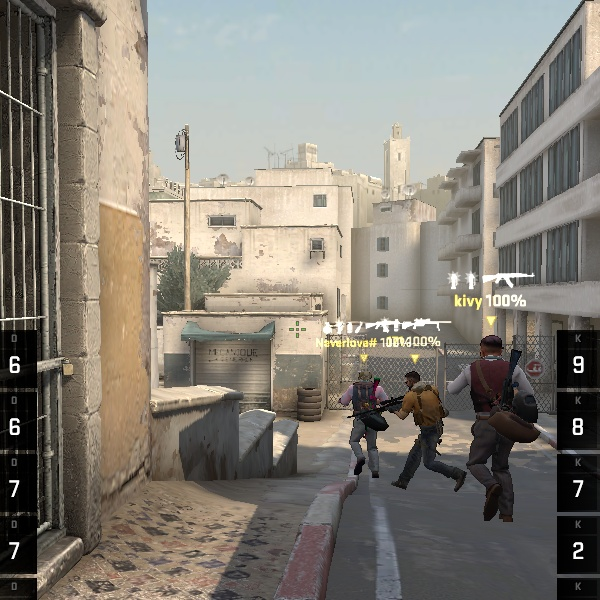t_body: (450, 333, 537, 519), (395, 370, 462, 492), (337, 369, 392, 484)
t_head: (478, 334, 505, 361), (404, 371, 422, 389), (358, 370, 373, 382)
